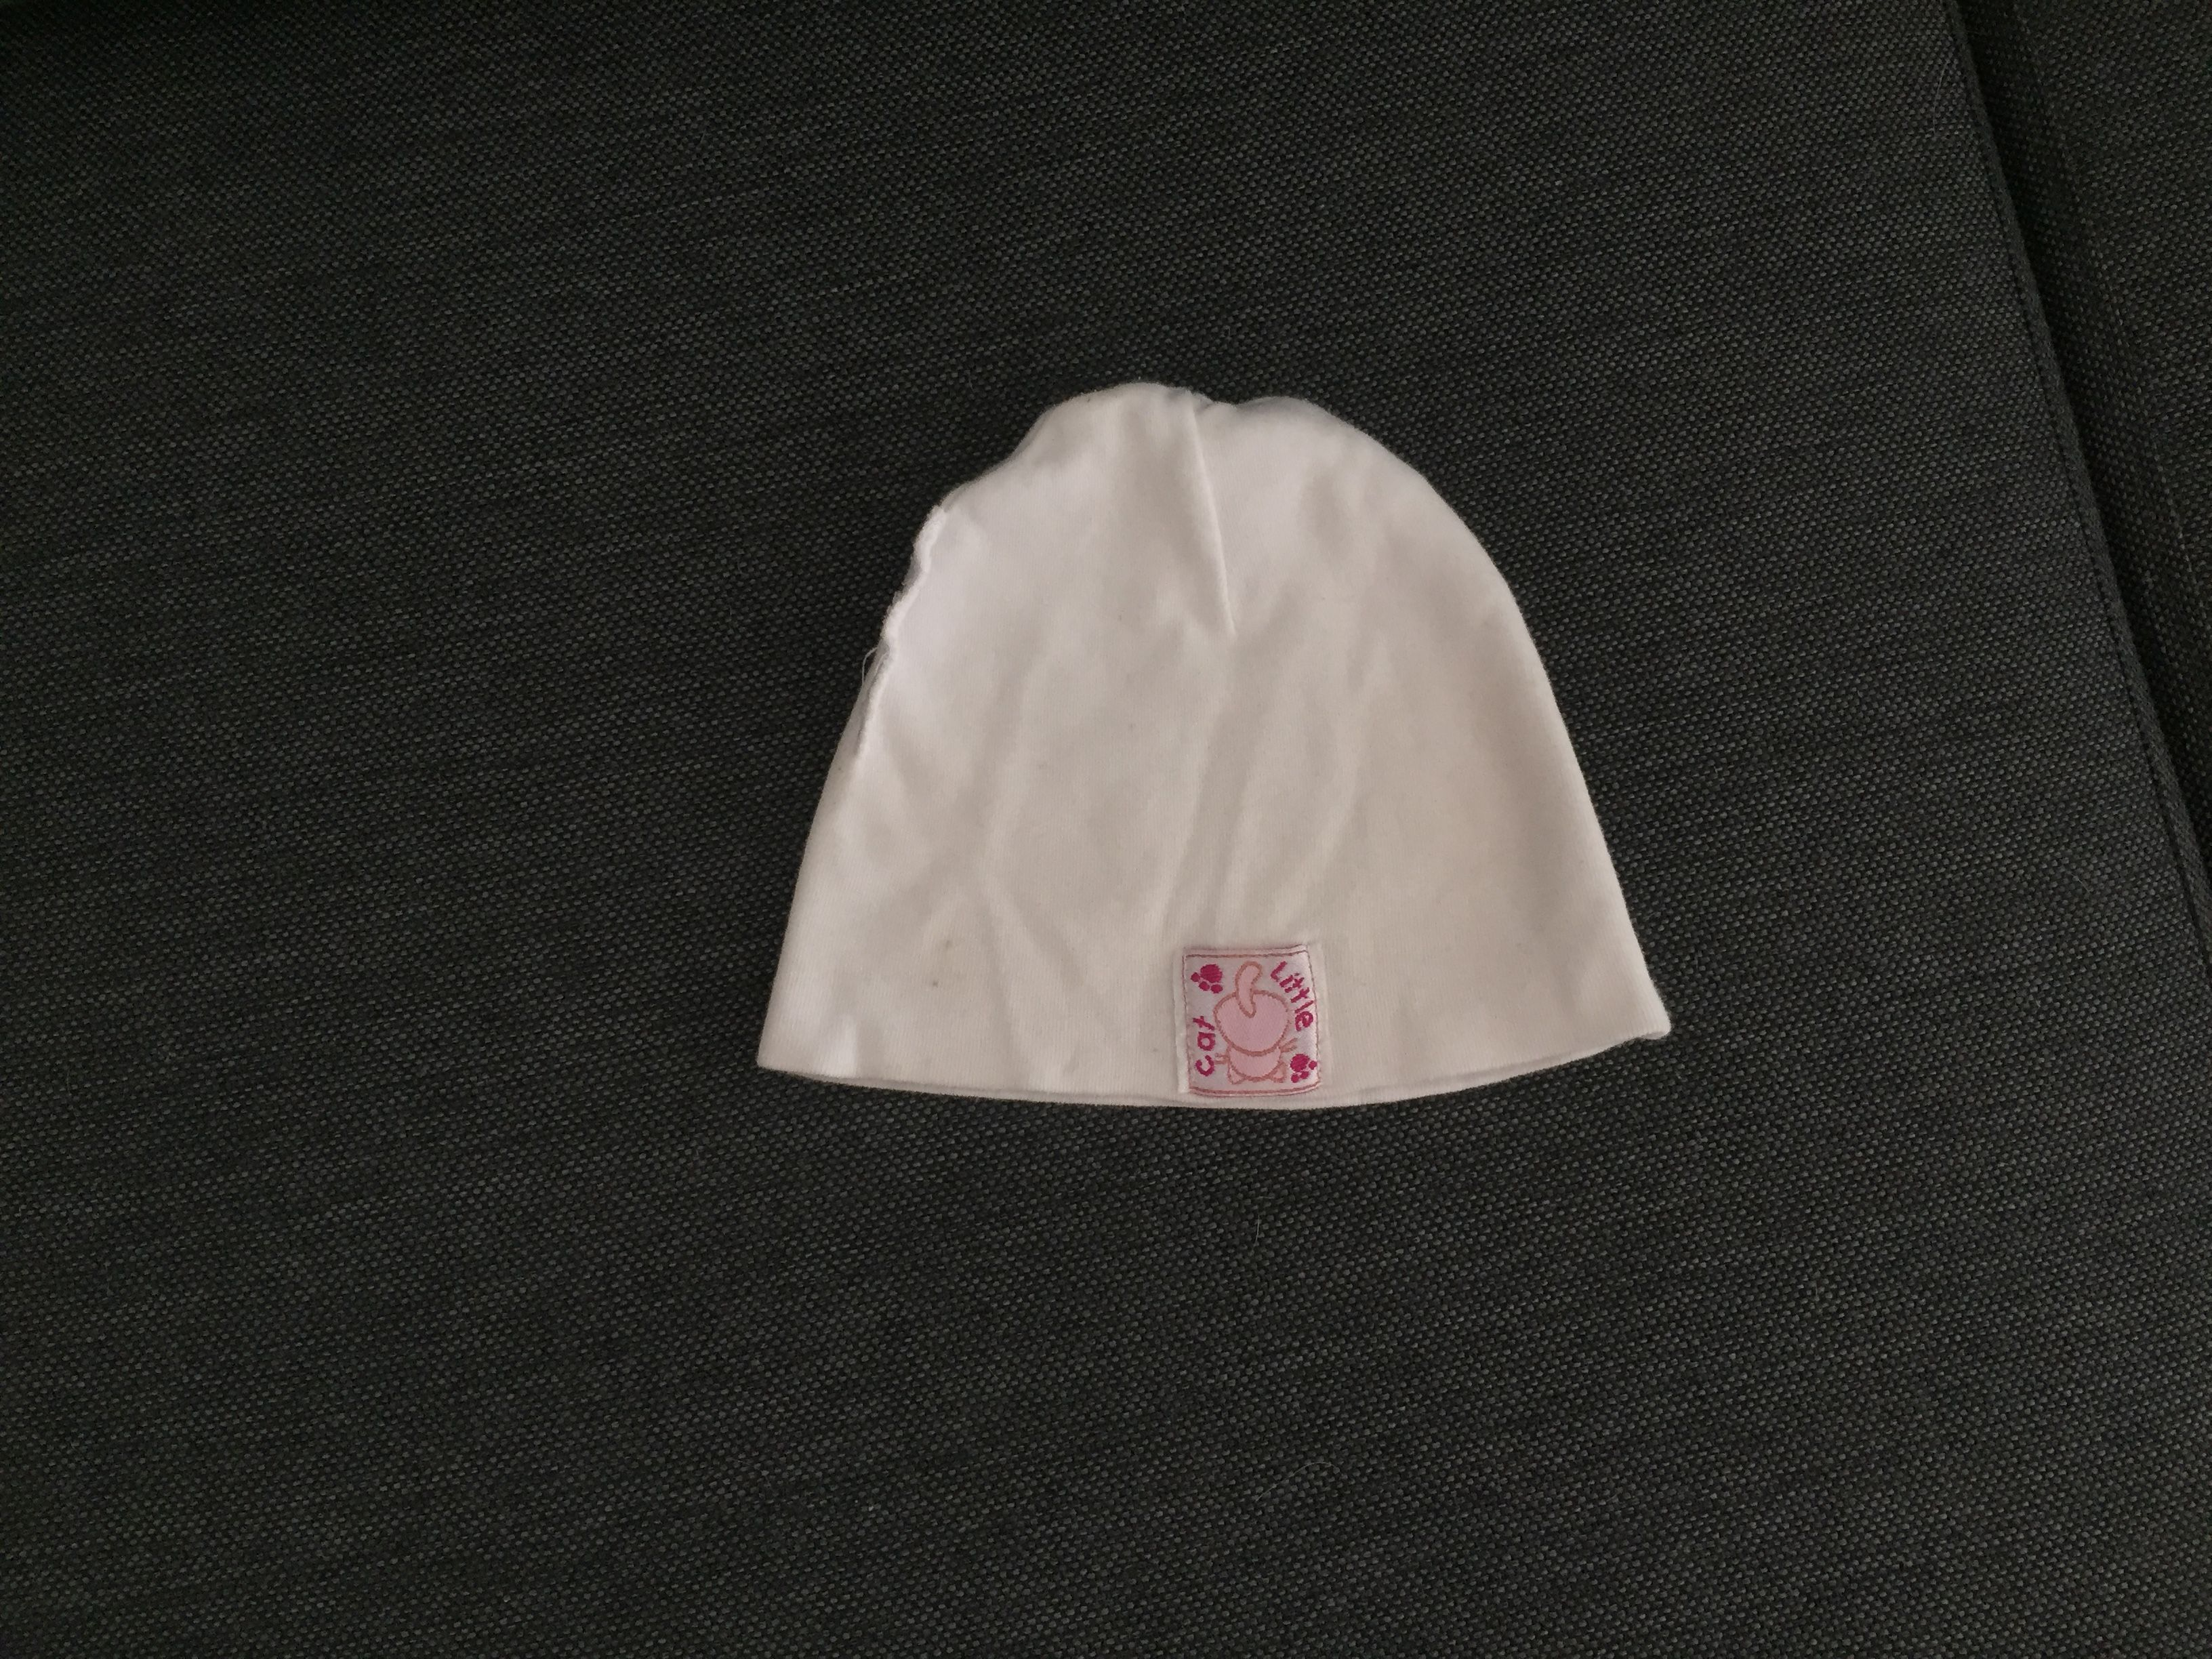clothes: (737, 382, 1674, 1122)
